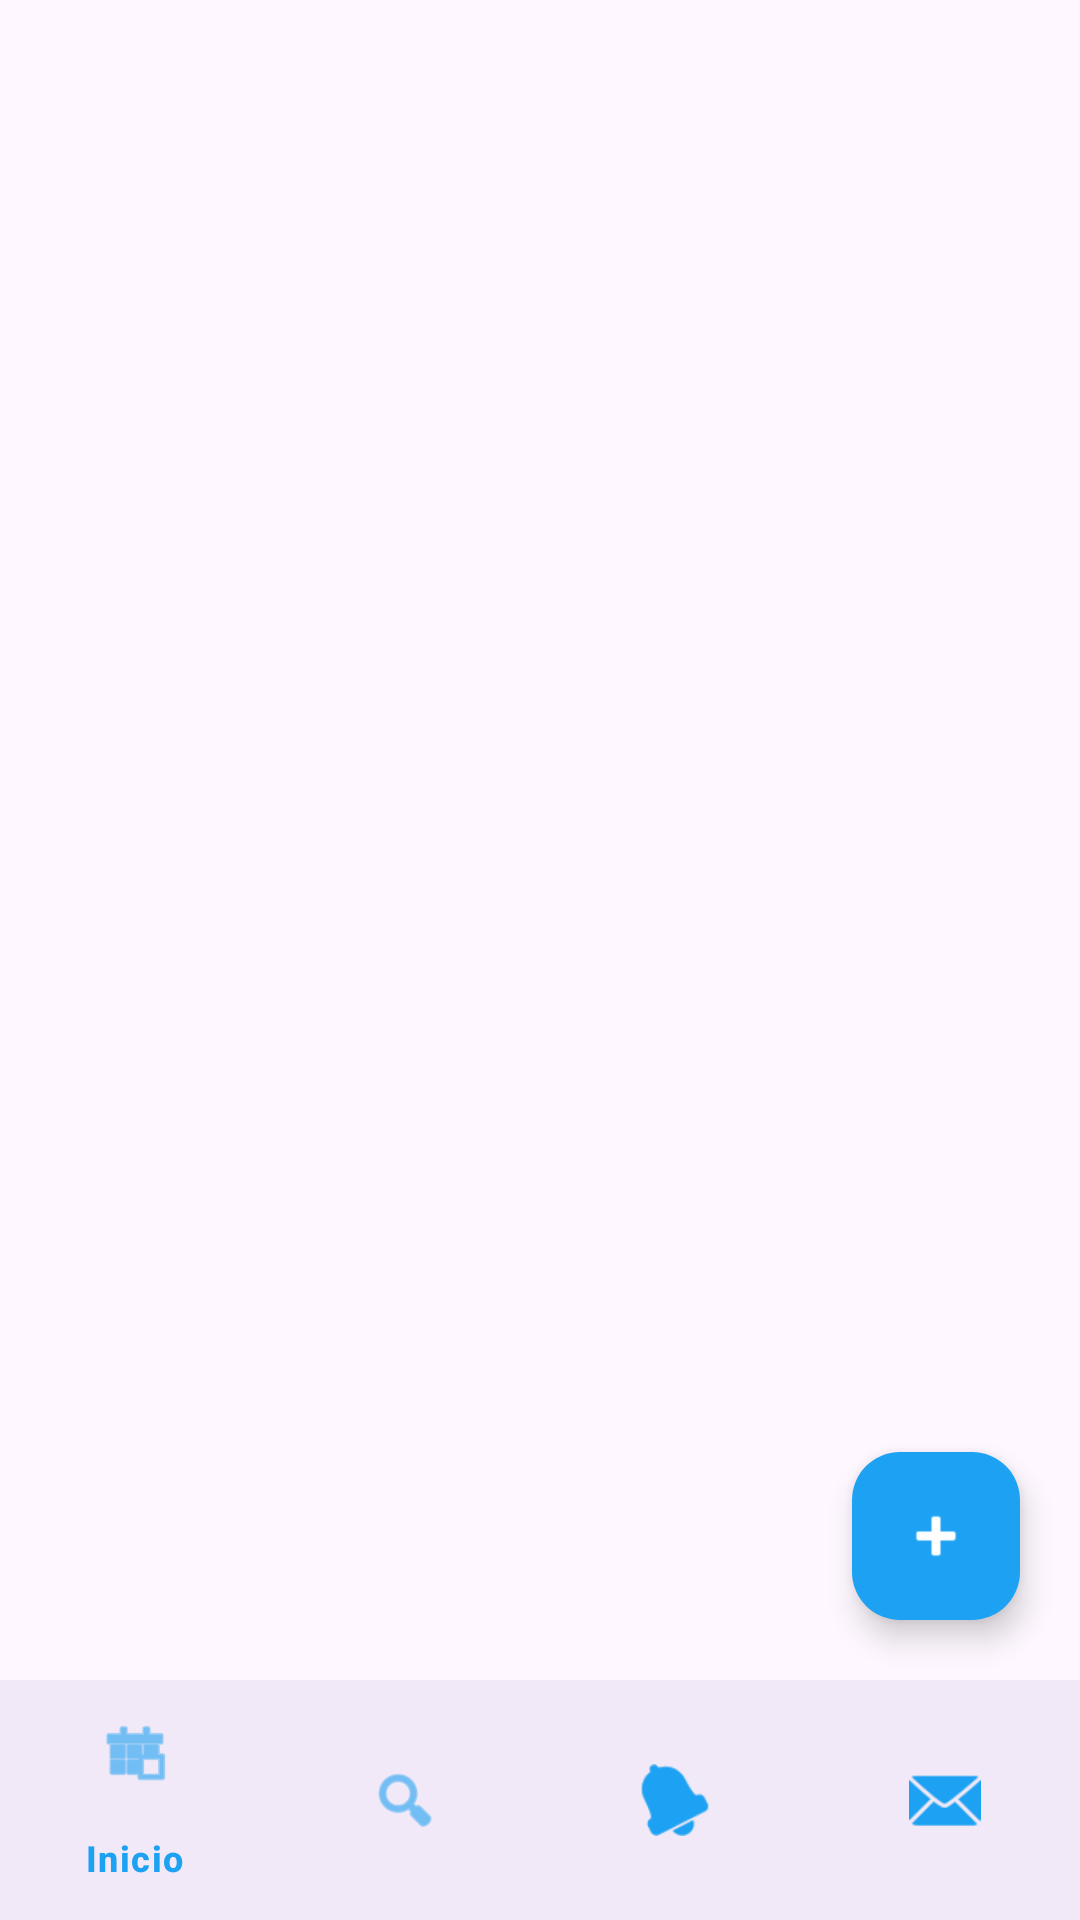

Screen size 1080×1920. Icon name, then its center in pixels as point (x, y):
add: point (936, 1536)
